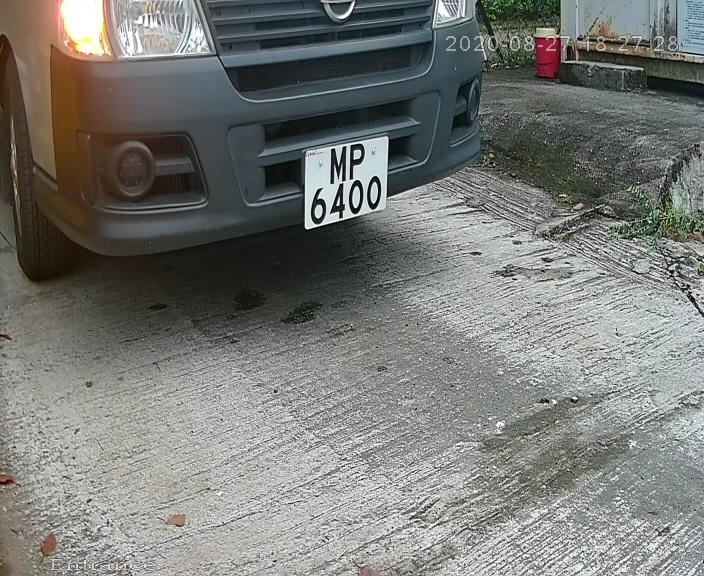License Plate: (293, 129, 393, 235)
